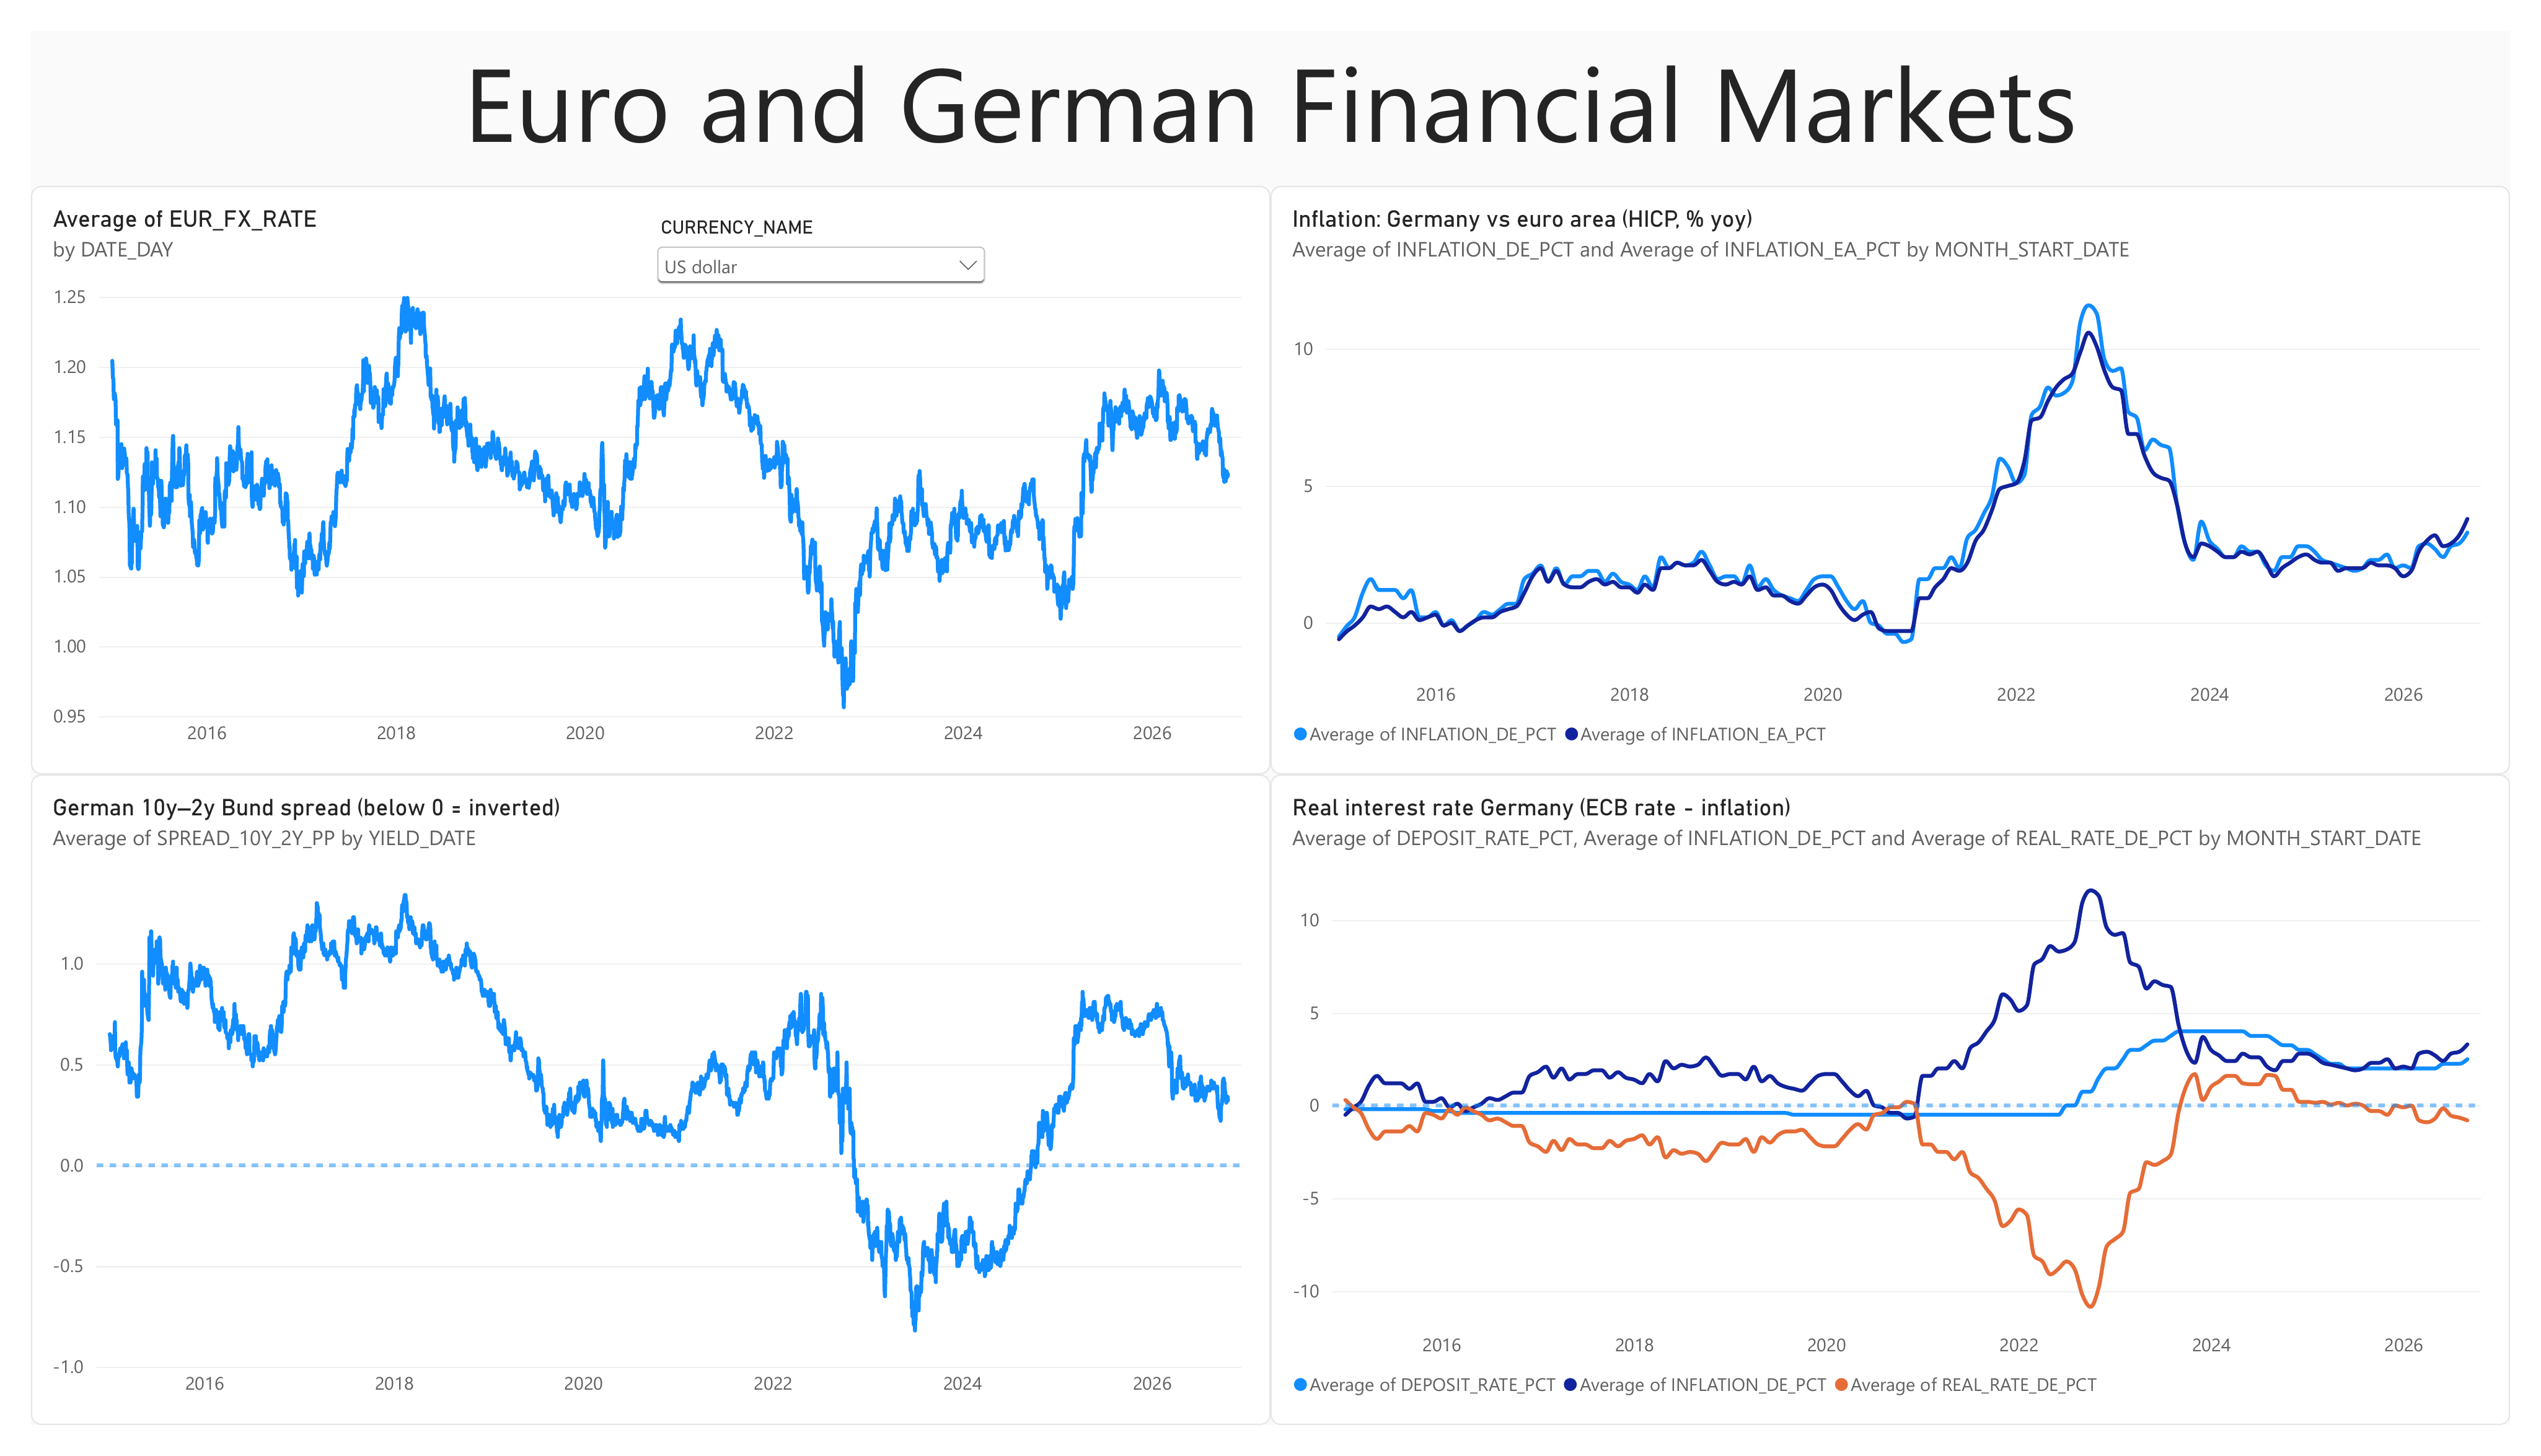

The dashboard page shown, as its layout file describes it:
{"tool":"powerbi","page":{"name":"Page 1","canvas":[1920,1080],"ordinal":0},"visuals":[{"type":"lineChart","fields":{"Category":["DIM_DATE.DATE_DAY"],"Y":["Avg(FACT_FX_DAILY.EUR_FX_RATE)"]},"box":[0,120,960,456],"z":0},{"type":"slicer","fields":{"Values":["DIM_CURRENCY.CURRENCY_NAME"]},"box":[480,144,264,240],"z":1000},{"type":"lineChart","title":"German 10y–2y Bund spread (below 0 = inverted)","fields":{"Category":["MART_YIELD_CURVE.YIELD_DATE"],"Y":["Avg(MART_YIELD_CURVE.SPREAD_10Y_2Y_PP)"]},"box":[0,576,960,504],"z":2000},{"type":"lineChart","title":"Real interest rate Germany (ECB rate − inflation)","fields":{"Category":["MART_REAL_INTEREST_RATE.MONTH_START_DATE"],"Y":["Avg(MART_REAL_INTEREST_RATE.DEPOSIT_RATE_PCT)","Avg(MART_REAL_INTEREST_RATE.INFLATION_DE_PCT)","Avg(MART_REAL_INTEREST_RATE.REAL_RATE_DE_PCT)"]},"box":[960,576,960,504],"z":3000},{"type":"lineChart","title":"Inflation: Germany vs euro area (HICP, % yoy)","fields":{"Category":["MART_REAL_INTEREST_RATE.MONTH_START_DATE"],"Y":["Avg(MART_REAL_INTEREST_RATE.INFLATION_DE_PCT)","Avg(MART_REAL_INTEREST_RATE.INFLATION_EA_PCT)"]},"box":[960,120,960,456],"z":4000},{"type":"textbox","box":[100,100,300,300],"z":5000},{"type":"textbox","box":[168,0,1584,288],"z":6000}]}

Visuals, with their boxes on the page's 1920x1080 design canvas (x1, y1, x2, y2). These are canvas units, not pixel positions in the 2541x1456 screenshot, which may show the page scaled, cropped or inside an application window:
lineChart - DIM_DATE.DATE_DAY x Avg(FACT_FX_DAILY.EUR_FX_RATE): crop(0, 120, 960, 576)
slicer - DIM_CURRENCY.CURRENCY_NAME: crop(480, 144, 744, 384)
"German 10y–2y Bund spread (below 0 = inverted)" lineChart: crop(0, 576, 960, 1080)
"Real interest rate Germany (ECB rate − inflation)" lineChart: crop(960, 576, 1920, 1080)
"Inflation: Germany vs euro area (HICP, % yoy)" lineChart: crop(960, 120, 1920, 576)
textbox: crop(100, 100, 400, 400)
textbox: crop(168, 0, 1752, 288)
